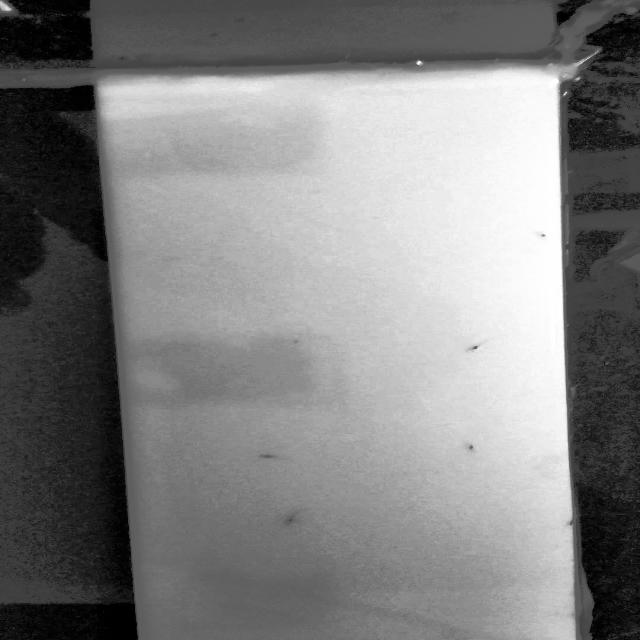shrimp: (272, 503, 314, 532), (468, 328, 506, 355), (530, 231, 552, 244), (249, 452, 288, 459), (458, 443, 486, 452)
